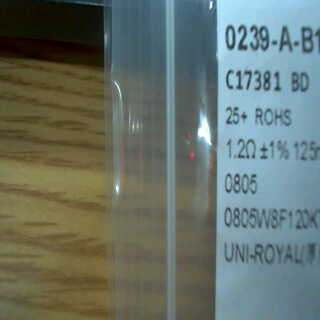1.2R: (223, 135, 259, 200)
